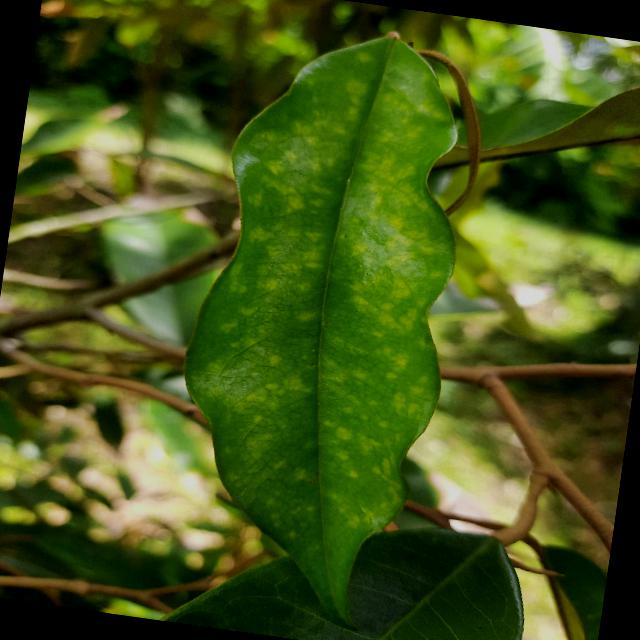Leaf Spot: (144, 3, 500, 639)
